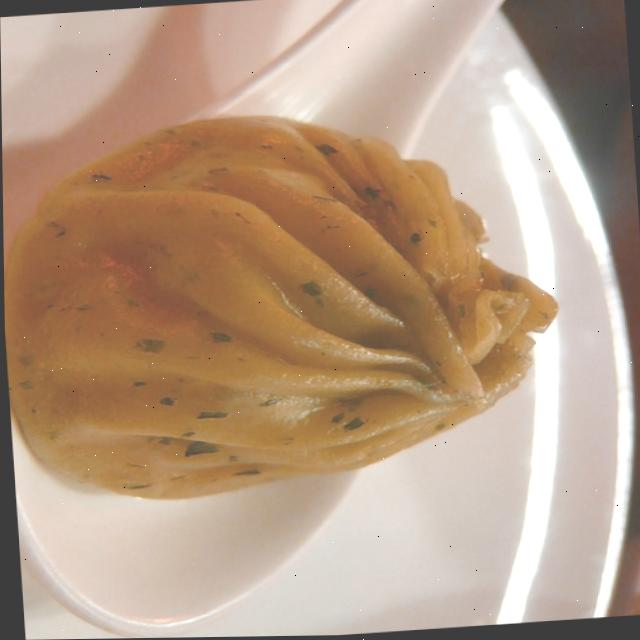带馅早点: (0, 0, 630, 625)
